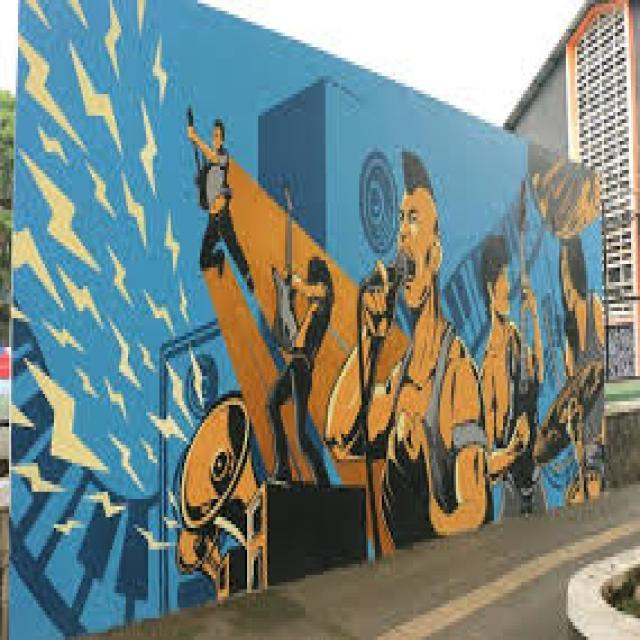-: (11, 2, 606, 640)
